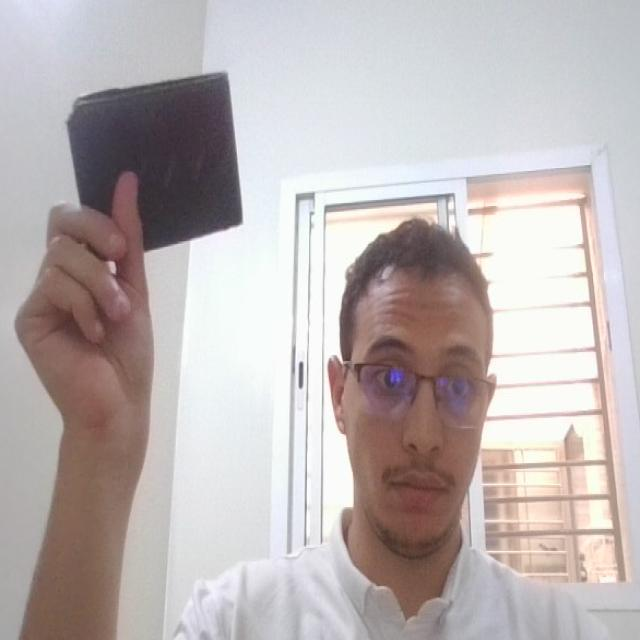wallet: (64, 74, 250, 270)
